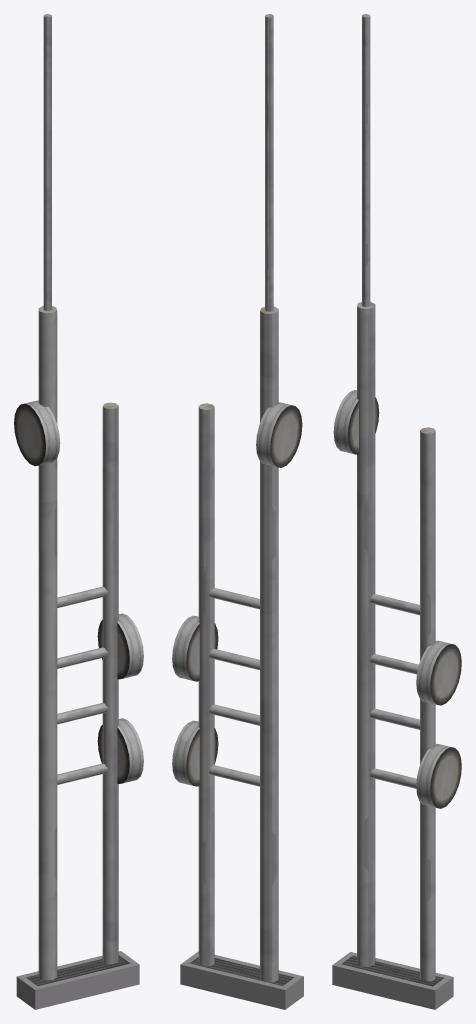
File: SM_Antenna02.glb
3 renders of one model, left to right at view 1: azimuth 30°, elevation 25°; view 2: azimuth 150°, elevation 25°; view 3: azimuth 330°, elevation 25°, orthographic.
Parts seen in each view (by area): view 1: SM_Antenna02; view 2: SM_Antenna02; view 3: SM_Antenna02.
Boxes of the visible parts, <box> form: SM_Antenna02: <box>14,14,143,1009</box>; SM_Antenna02: <box>172,14,303,1009</box>; SM_Antenna02: <box>332,14,461,1009</box>.
Bounding box in the file's own units: 1.32 × 11.81 × 0.7009.
Materials: 1 (1 with a texture image).
